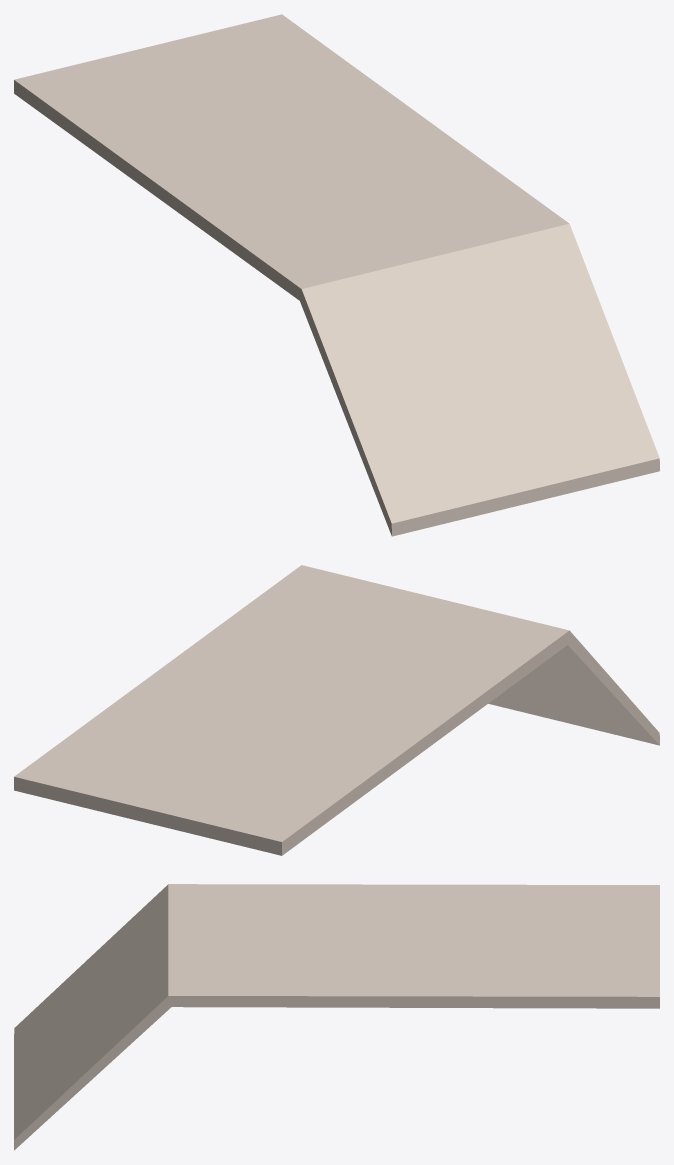
The model's file is ForceWallUp.fbx.
3 views of the same model, one above another, from view 1: azimuth 30°, elevation 25°; view 2: azimuth 150°, elevation 25°; view 3: azimuth 270°, elevation 25° (orthographic). The views are drawn at different scales.
Parts seen in each view (by area): view 1: FWPart2; view 2: FWPart2; view 3: FWPart2.
Boxes of the visible parts, x1=… form: FWPart2: x1=14, y1=14, x2=659, y2=536; FWPart2: x1=14, y1=565, x2=659, y2=855; FWPart2: x1=14, y1=884, x2=659, y2=1150.
Bounding box in the file's own units: 32.64 × 21.1 × 79.71.
